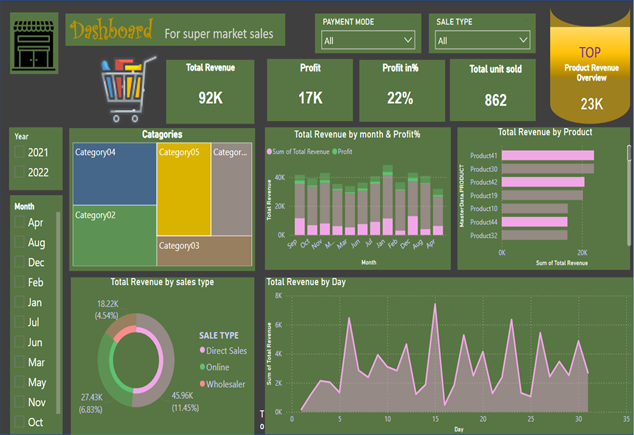

The page's visual inventory and layout, read from the dashboard file:
{"tool":"powerbi","page":{"name":"Page 1","canvas":[1280,720],"ordinal":0},"visuals":[{"type":"slicer","fields":{"Values":["InputData.Year"]},"box":[17.6,212.5,115,101],"z":0},{"type":"slicer","fields":{"Values":["InputData.Month Name"]},"box":[17.6,324.9,109.8,391.6],"z":1000},{"type":"slicer","fields":{"Values":["InputData.SALE TYPE"]},"box":[869.3,22.8,212.5,60.6],"z":2000},{"type":"slicer","fields":{"Values":["InputData.PAYMENT MODE"]},"box":[640.1,22.8,209,60.6],"z":3000},{"type":"card","title":"Total Revenue","fields":{"Values":["Sum(InputData.Total Revenue)"]},"box":[338.9,101.9,175.6,106.2],"z":4000},{"type":"card","title":"Profit in%","fields":{"Values":["InputData.Profit %"]},"box":[722.6,101.9,173.9,103.6],"z":6000},{"type":"card","title":"Profit","fields":{"Values":["InputData.Profit"]},"box":[541.8,101.9,172.1,103.6],"z":7000},{"type":"columnChart","title":"Total Revenue by month & Profit%","fields":{"Category":["InputData.Month Name"],"Y":["Sum(InputData.Total Revenue)","InputData.Profit"]},"box":[533.9,212.5,376.7,232.7],"z":8000},{"type":"clusteredBarChart","title":"Total Revenue by Product","fields":{"Y":["Sum(InputData.Total Revenue)"],"Category":["InputData.MasterData.PRODUCT"]},"box":[922.8,208.1,357.4,237.1],"z":9000},{"type":"areaChart","title":" Total Revenue by Day","fields":{"Y":["Sum(InputData.Total Revenue)"],"Category":["InputData.Day"]},"box":[533.9,455.7,746.3,264.3],"z":10000},{"type":"pieChart","title":"Top 10 quantites sold by Product","fields":{"Category":["InputData.MasterData.PRODUCT"],"Y":["Sum(InputData.QUANTITY)"]},"box":[143.1,212.5,371.4,232.7],"z":11000},{"type":"donutChart","title":"Total Revenue by sales type","fields":{"Category":["InputData.SALE TYPE"],"Y":["Sum(InputData.Total Revenue)"]},"box":[143.1,455.7,371.4,260.8],"z":12000},{"type":"card","title":"Product Revenue Overview","fields":{"Values":["Sum(InputData.Total Revenue)"]},"box":[1132.7,104.5,125.6,101],"z":13000},{"type":"card","title":"Total unit sold","fields":{"Values":["Sum(InputData.QUANTITY)"]},"box":[916.7,104.5,171.2,103.6],"z":13001}]}

Visuals, with their boxes on the page's 1280x720 design canvas (x1, y1, x2, y2). These are canvas units, not pixel positions in the 634x435 screenshot, which may show the page scaled, cropped or inside an application window:
slicer - InputData.Year: select_region(18, 212, 133, 314)
slicer - InputData.Month Name: select_region(18, 325, 127, 716)
slicer - InputData.SALE TYPE: select_region(869, 23, 1082, 83)
slicer - InputData.PAYMENT MODE: select_region(640, 23, 849, 83)
"Total Revenue" card: select_region(339, 102, 514, 208)
"Profit in%" card: select_region(723, 102, 896, 206)
"Profit" card: select_region(542, 102, 714, 206)
"Total Revenue by month & Profit%" columnChart: select_region(534, 212, 911, 445)
"Total Revenue by Product" clusteredBarChart: select_region(923, 208, 1280, 445)
" Total Revenue by Day" areaChart: select_region(534, 456, 1280, 720)
"Top 10 quantites sold by Product" pieChart: select_region(143, 212, 514, 445)
"Total Revenue by sales type" donutChart: select_region(143, 456, 514, 716)
"Product Revenue Overview" card: select_region(1133, 104, 1258, 206)
"Total unit sold" card: select_region(917, 104, 1088, 208)
